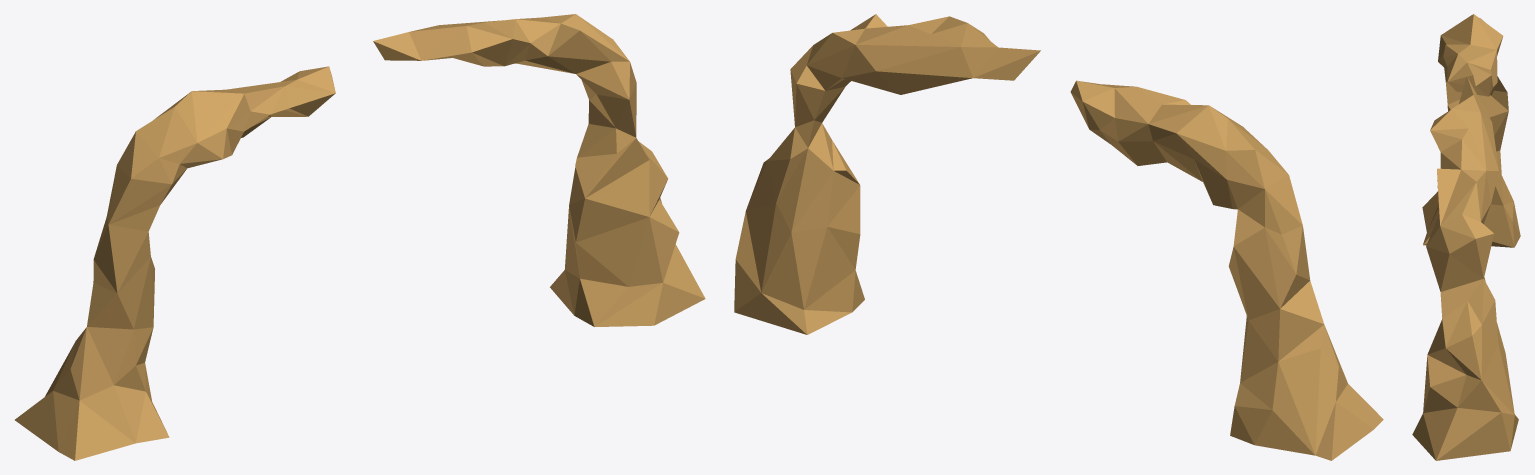
File: canyon_2.dae
3 views of the same model, side by side, from view 1: azimuth 30°, elevation 25°; view 2: azimuth 150°, elevation 25°; view 3: azimuth 270°, elevation 25° (orthographic). The views are drawn at different scales.
Parts seen in each view (by area): view 1: canyon_2; view 2: canyon_2; view 3: canyon_2.
Part boxes in pixels (box(x1,y1,x2,y2)): canyon_2: box(15, 14, 705, 460); canyon_2: box(734, 14, 1383, 460); canyon_2: box(1412, 14, 1520, 460).
Bounding box in the file's own units: 18.91 × 3.4 × 9.04.
